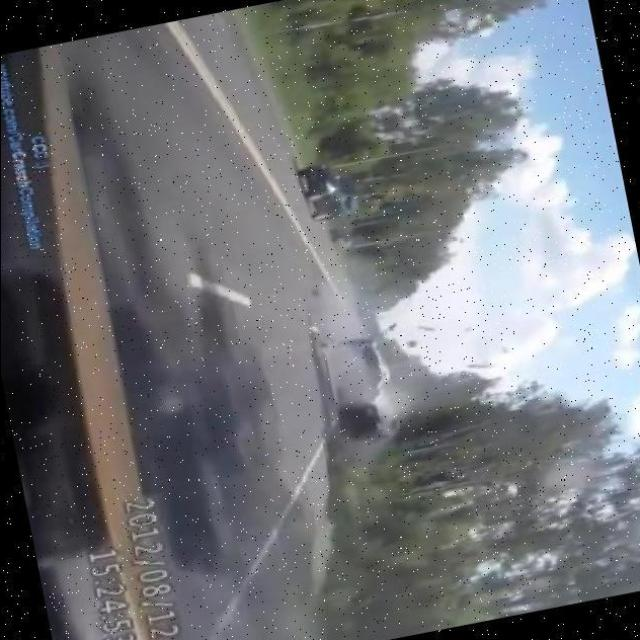accident: (338, 349, 407, 439)
